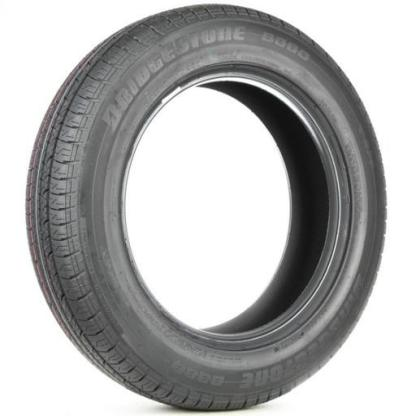Tire: (24, 1, 392, 413)
